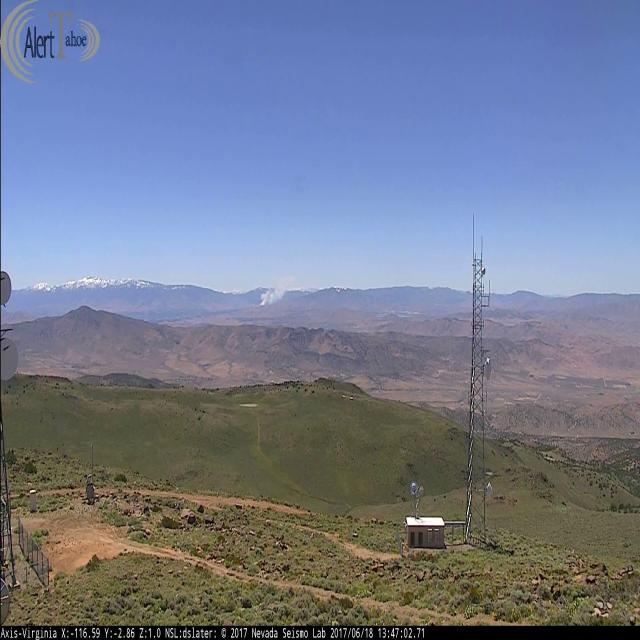smoke: (260, 273, 296, 304)
